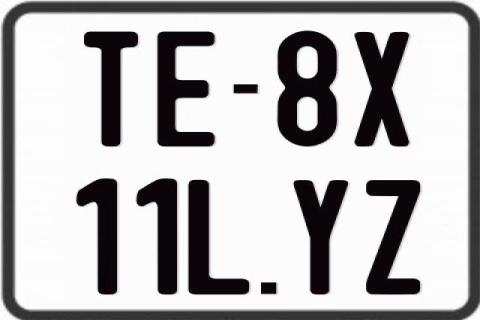0: (277, 30, 339, 150), (75, 176, 119, 293), (136, 176, 179, 294)
E: (158, 29, 218, 145)
L: (185, 179, 246, 297)
T: (83, 30, 139, 146)
X: (355, 31, 410, 149)
Y: (294, 180, 353, 298)
Z: (365, 180, 420, 298)
